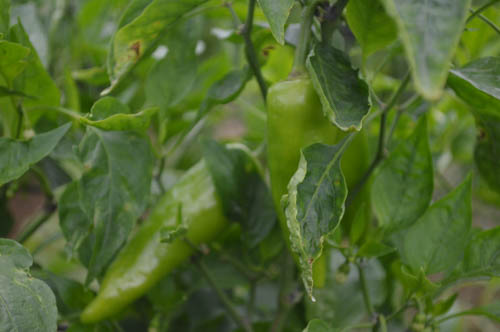ChiliPepper: (74, 152, 227, 331), (265, 85, 365, 296)
